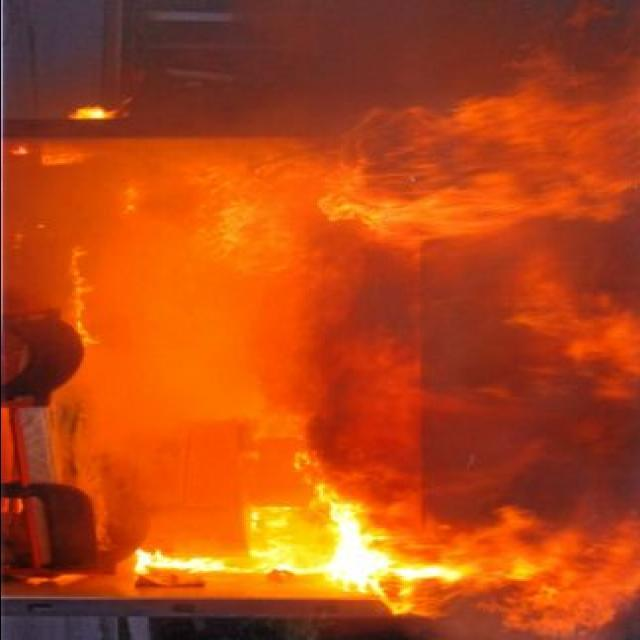Fire: (123, 120, 557, 611)
